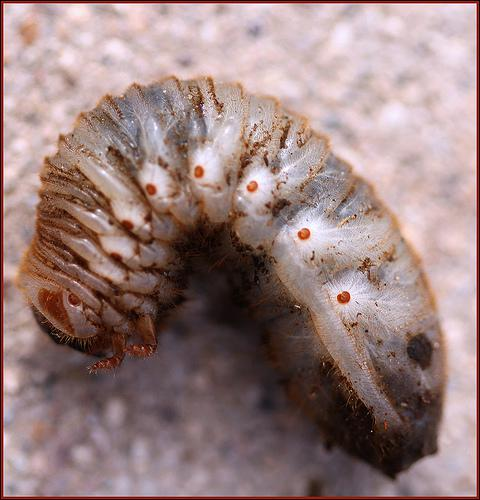grub: (30, 73, 473, 482)
